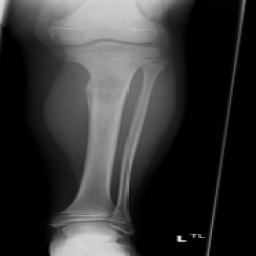cancer: (84, 76, 124, 109)
